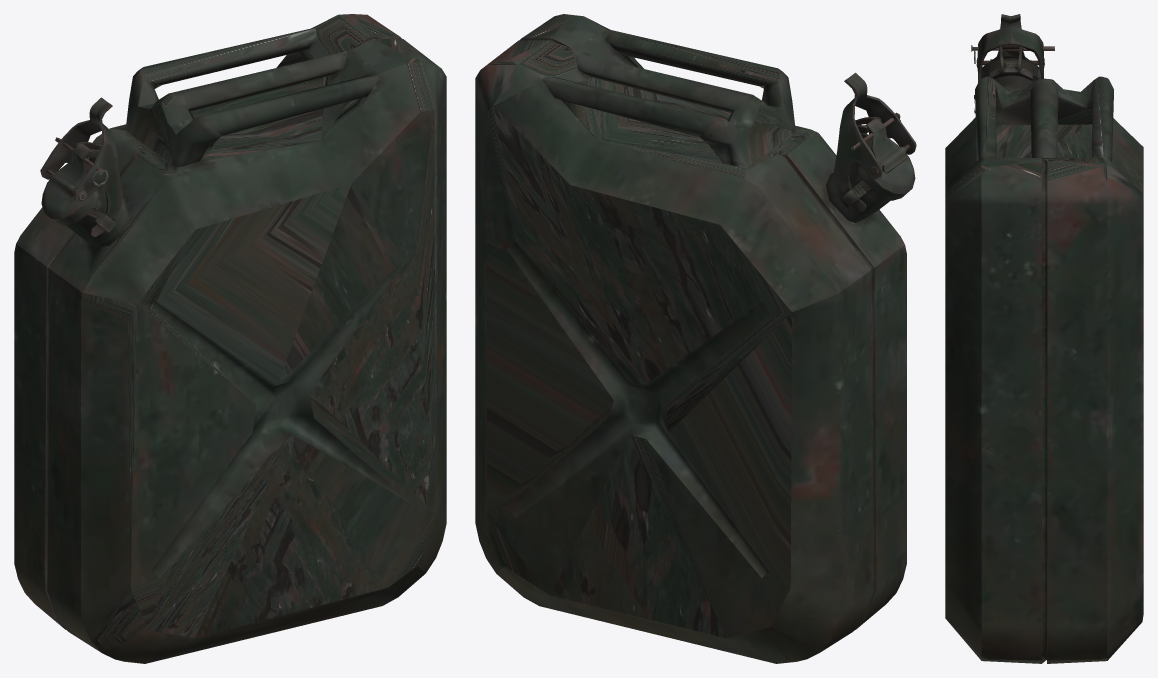
File: jerrycan.glb
3 renders of one model, left to right at view 1: azimuth 30°, elevation 25°; view 2: azimuth 150°, elevation 25°; view 3: azimuth 270°, elevation 25°, orthographic. The views are drawn at different scales.
Parts seen in each view (by area): view 1: metal_jerrycan_green_body, metal_jerrycan_green_latch, metal_jerrycan_green_cap; view 2: metal_jerrycan_green_body, metal_jerrycan_green_latch, metal_jerrycan_green_cap; view 3: metal_jerrycan_green_body, metal_jerrycan_green_latch, metal_jerrycan_green_cap, metal_jerrycan_green_fastener.
Boxes of the visible parts, x1=… form: metal_jerrycan_green_body: x1=14, y1=14, x2=446, y2=663; metal_jerrycan_green_latch: x1=40, y1=97, x2=122, y2=236; metal_jerrycan_green_cap: x1=41, y1=143, x2=101, y2=225; metal_jerrycan_green_body: x1=475, y1=14, x2=906, y2=663; metal_jerrycan_green_latch: x1=834, y1=72, x2=916, y2=211; metal_jerrycan_green_cap: x1=855, y1=118, x2=915, y2=200; metal_jerrycan_green_body: x1=945, y1=75, x2=1143, y2=663; metal_jerrycan_green_latch: x1=976, y1=14, x2=1044, y2=82; metal_jerrycan_green_cap: x1=981, y1=44, x2=1040, y2=80; metal_jerrycan_green_fastener: x1=989, y1=46, x2=1032, y2=80.
Size of the model in its own units: 0.3604 by 0.4998 by 0.1709.
Materials: 1 (1 with a texture image).
